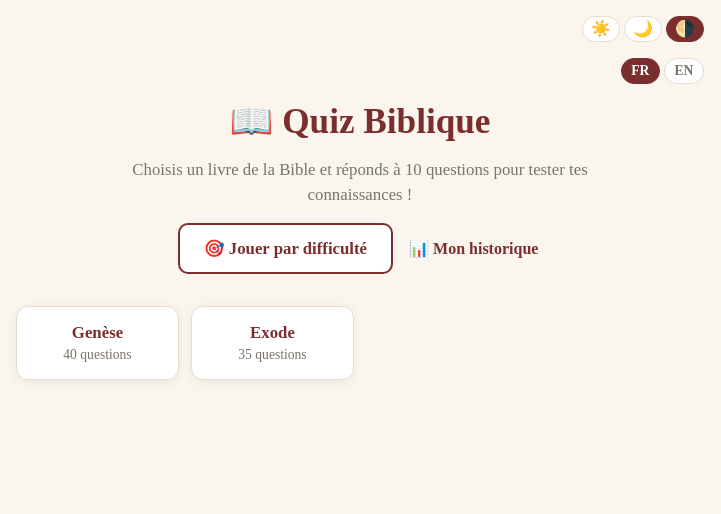
it: App - difficulty mode › home → difficulty setup → quiz draws from the chosen level and count
The width and height of the screenshot is (721, 514).
What coordinates should you click on to do the following:
click the button "🎯 Jouer par difficulté"
I would click on:
 (285, 248)
Its box is [178,223,393,274].
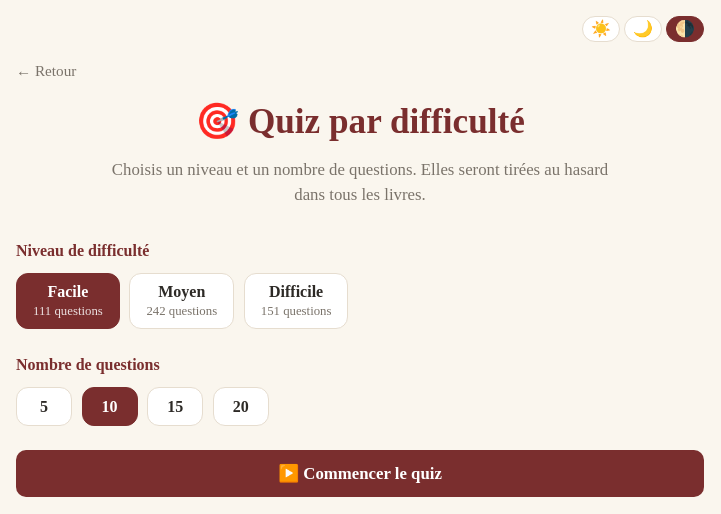
Expected: the heading "🎯 Quiz par difficulté" is shown, [195,102,525,141]
What coordinates should you click on to do the following:
click the button "Difficile 151 questions"
I would click on:
 (296, 301)
Its box is [244,273,348,329].
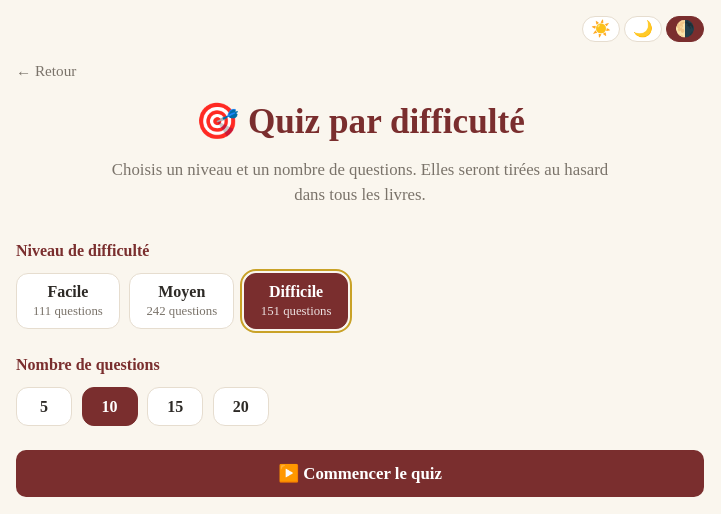
What coordinates should you click on to do the following:
click the button "15"
I would click on:
 (175, 406)
Its box is [147,387,203,426].
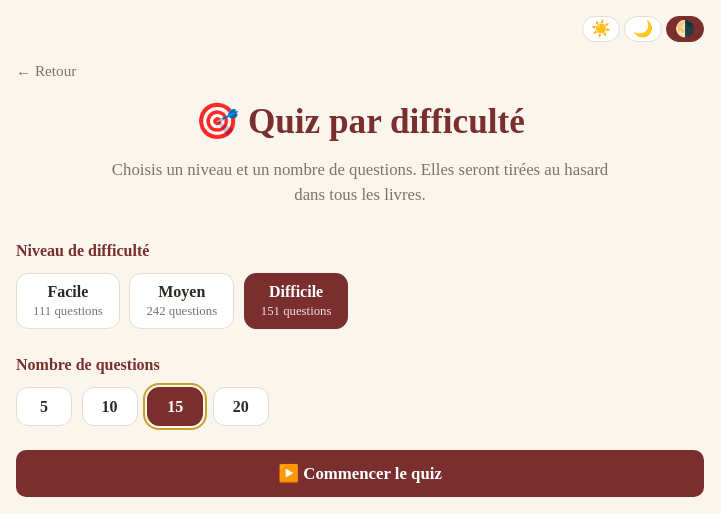
What coordinates should you click on to do the following:
click the button "▶️ Commencer le quiz"
I would click on:
 (360, 473)
Its box is [16,450,704,497].
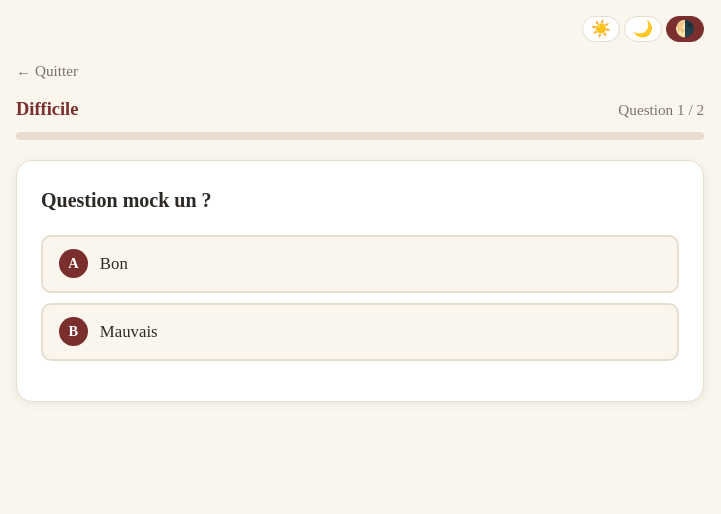
Expected: the text "Difficile" is shown, [16,96,78,124]
Expected: the text "Question mock un ?" is shown, [41,189,212,211]
